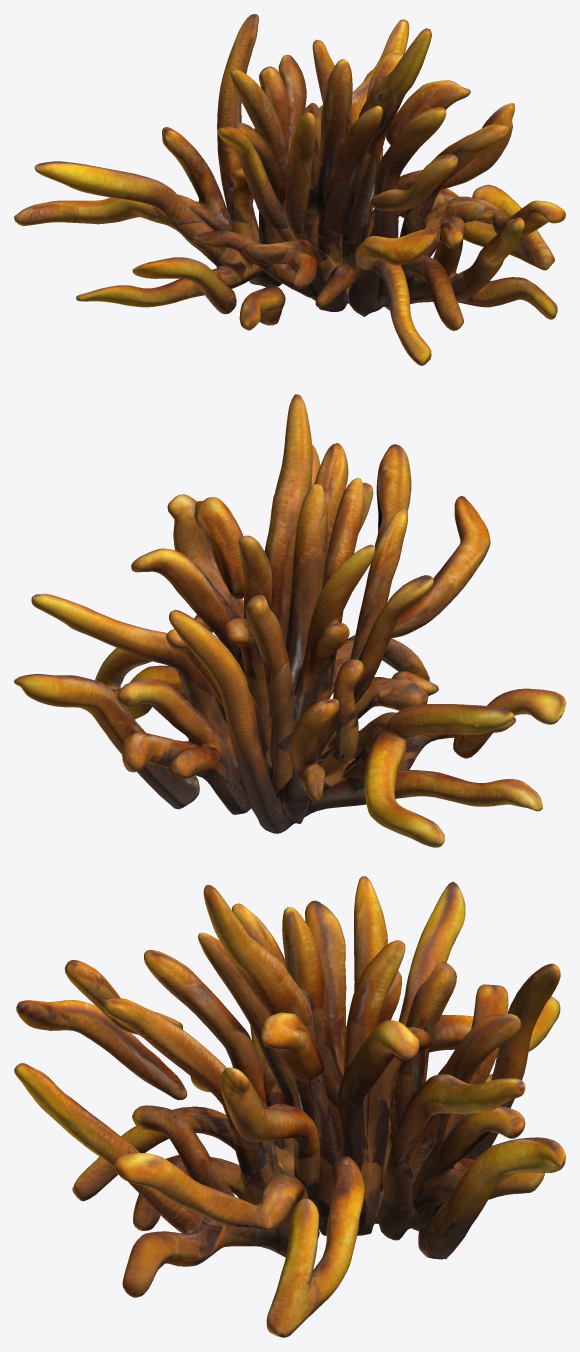
File: Cordyceps_GLTF.gltf
3 renders of one model, top to bottom at view 1: azimuth 30°, elevation 25°; view 2: azimuth 150°, elevation 25°; view 3: azimuth 270°, elevation 25°, orthographic. The views are drawn at different scales.
Visible parts, largest first — view 1: Node #0; view 2: Node #0; view 3: Node #0.
Boxes of the visible parts, x1,y1,x2,y2 form: Node #0: (14, 14, 565, 365); Node #0: (14, 394, 565, 847); Node #0: (14, 876, 565, 1337).
Size of the model in its own units: 2 by 1.3 by 1.74.
Materials: 1 (1 with a texture image).
